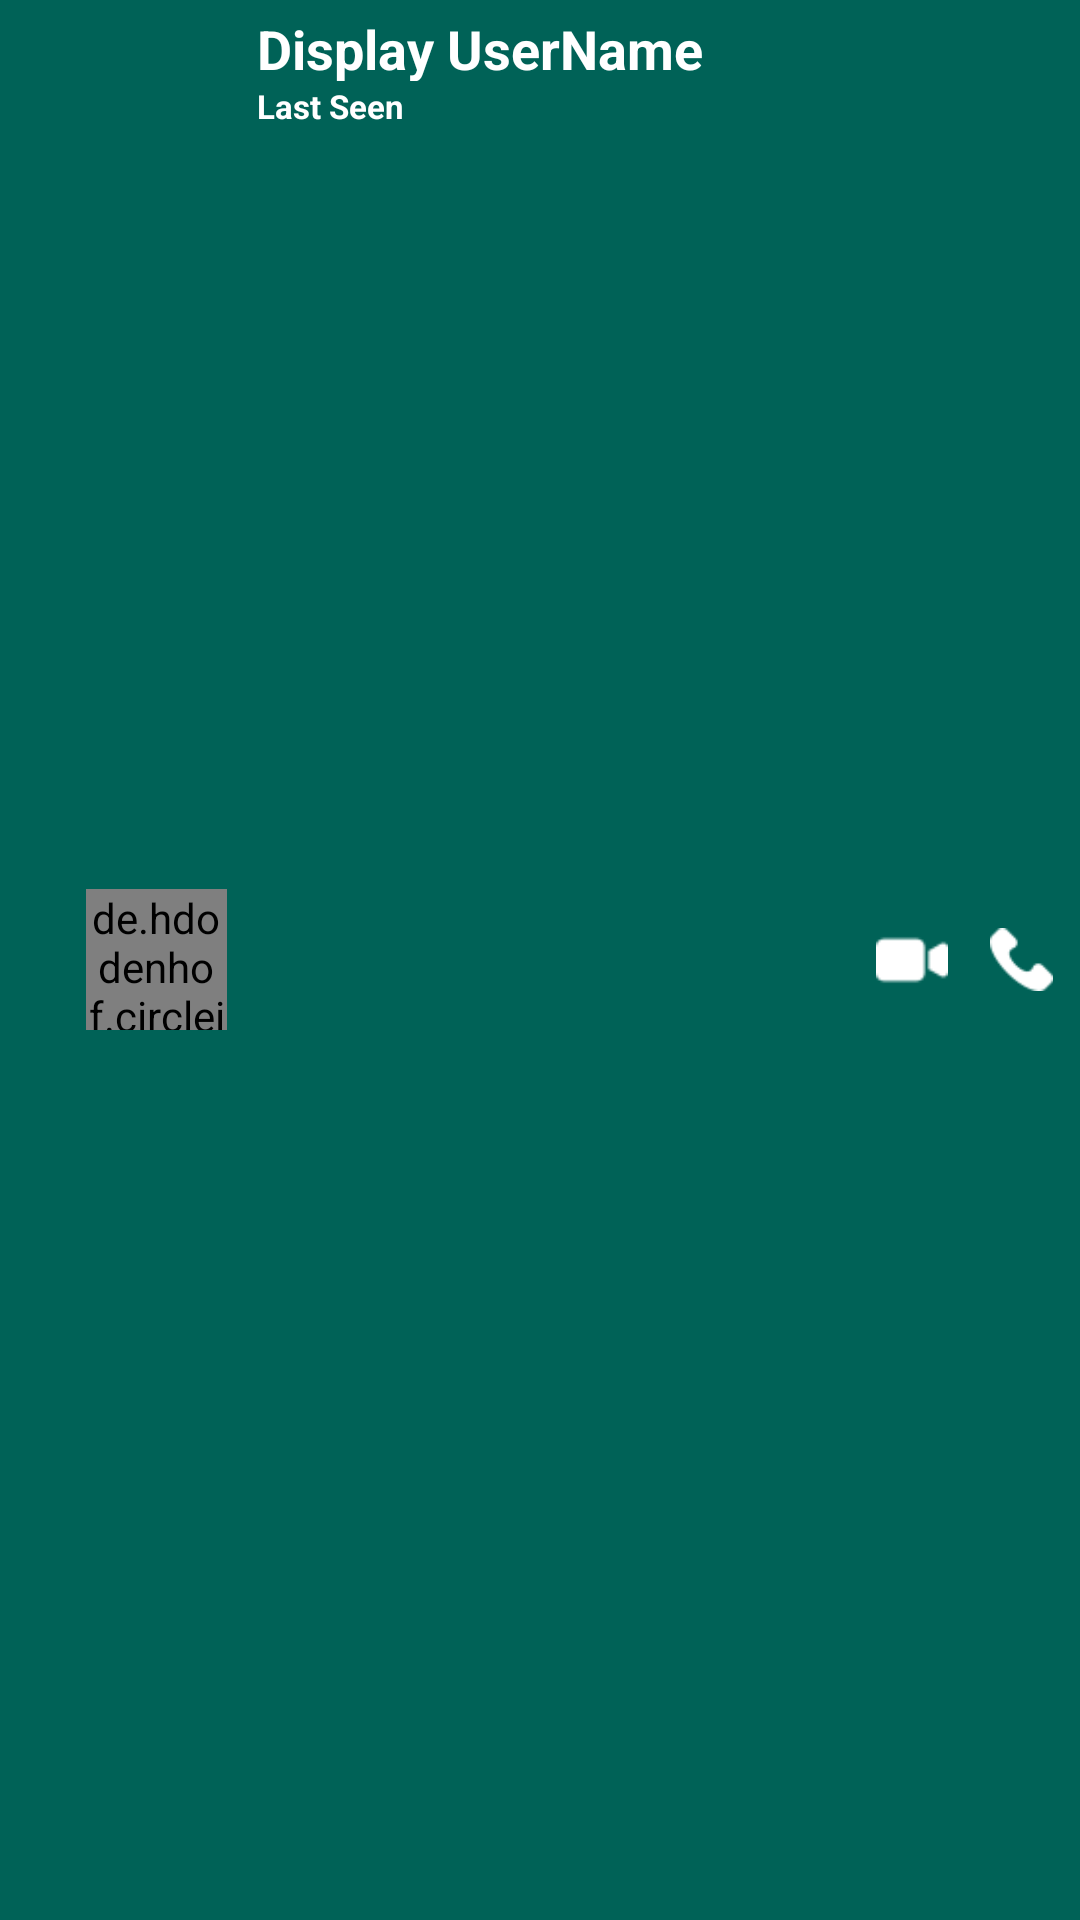

Where to tap for icons on this 1080px x 1920px app screen, as (x=x, y=y):
phone: (x=1021, y=959)
video camera: (x=912, y=960)
